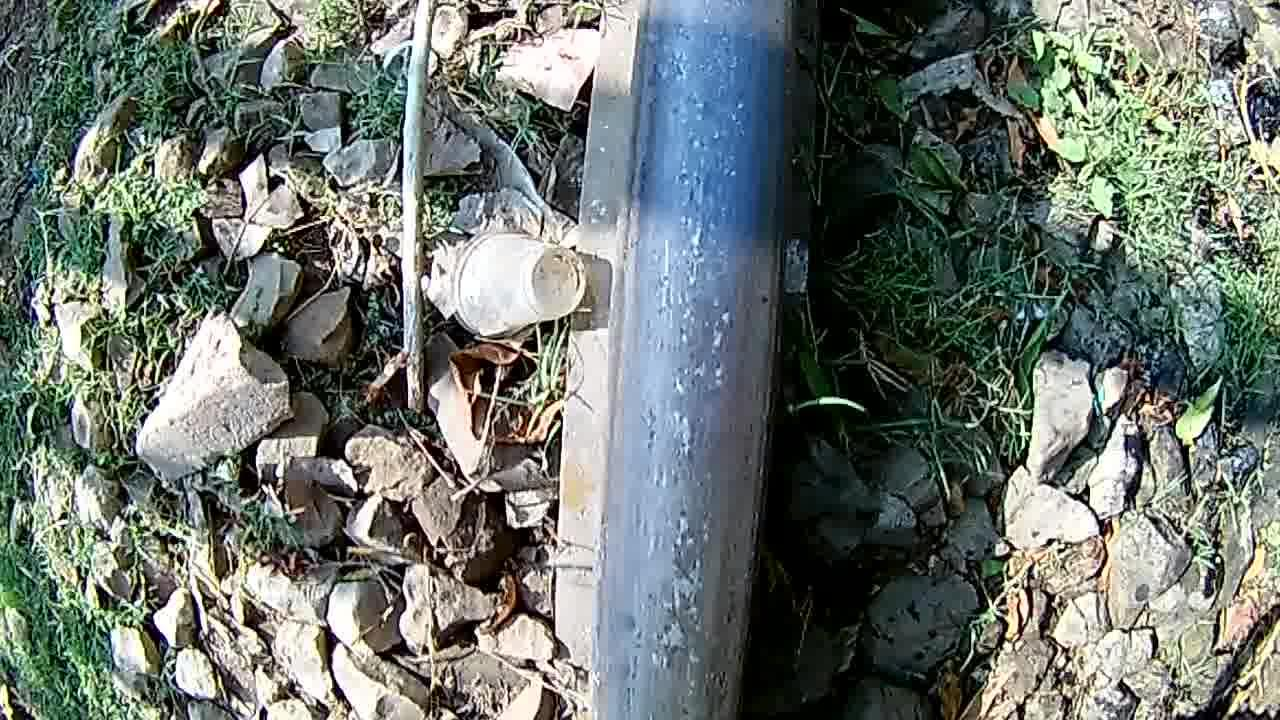clip_missing: (604, 3, 797, 720)
